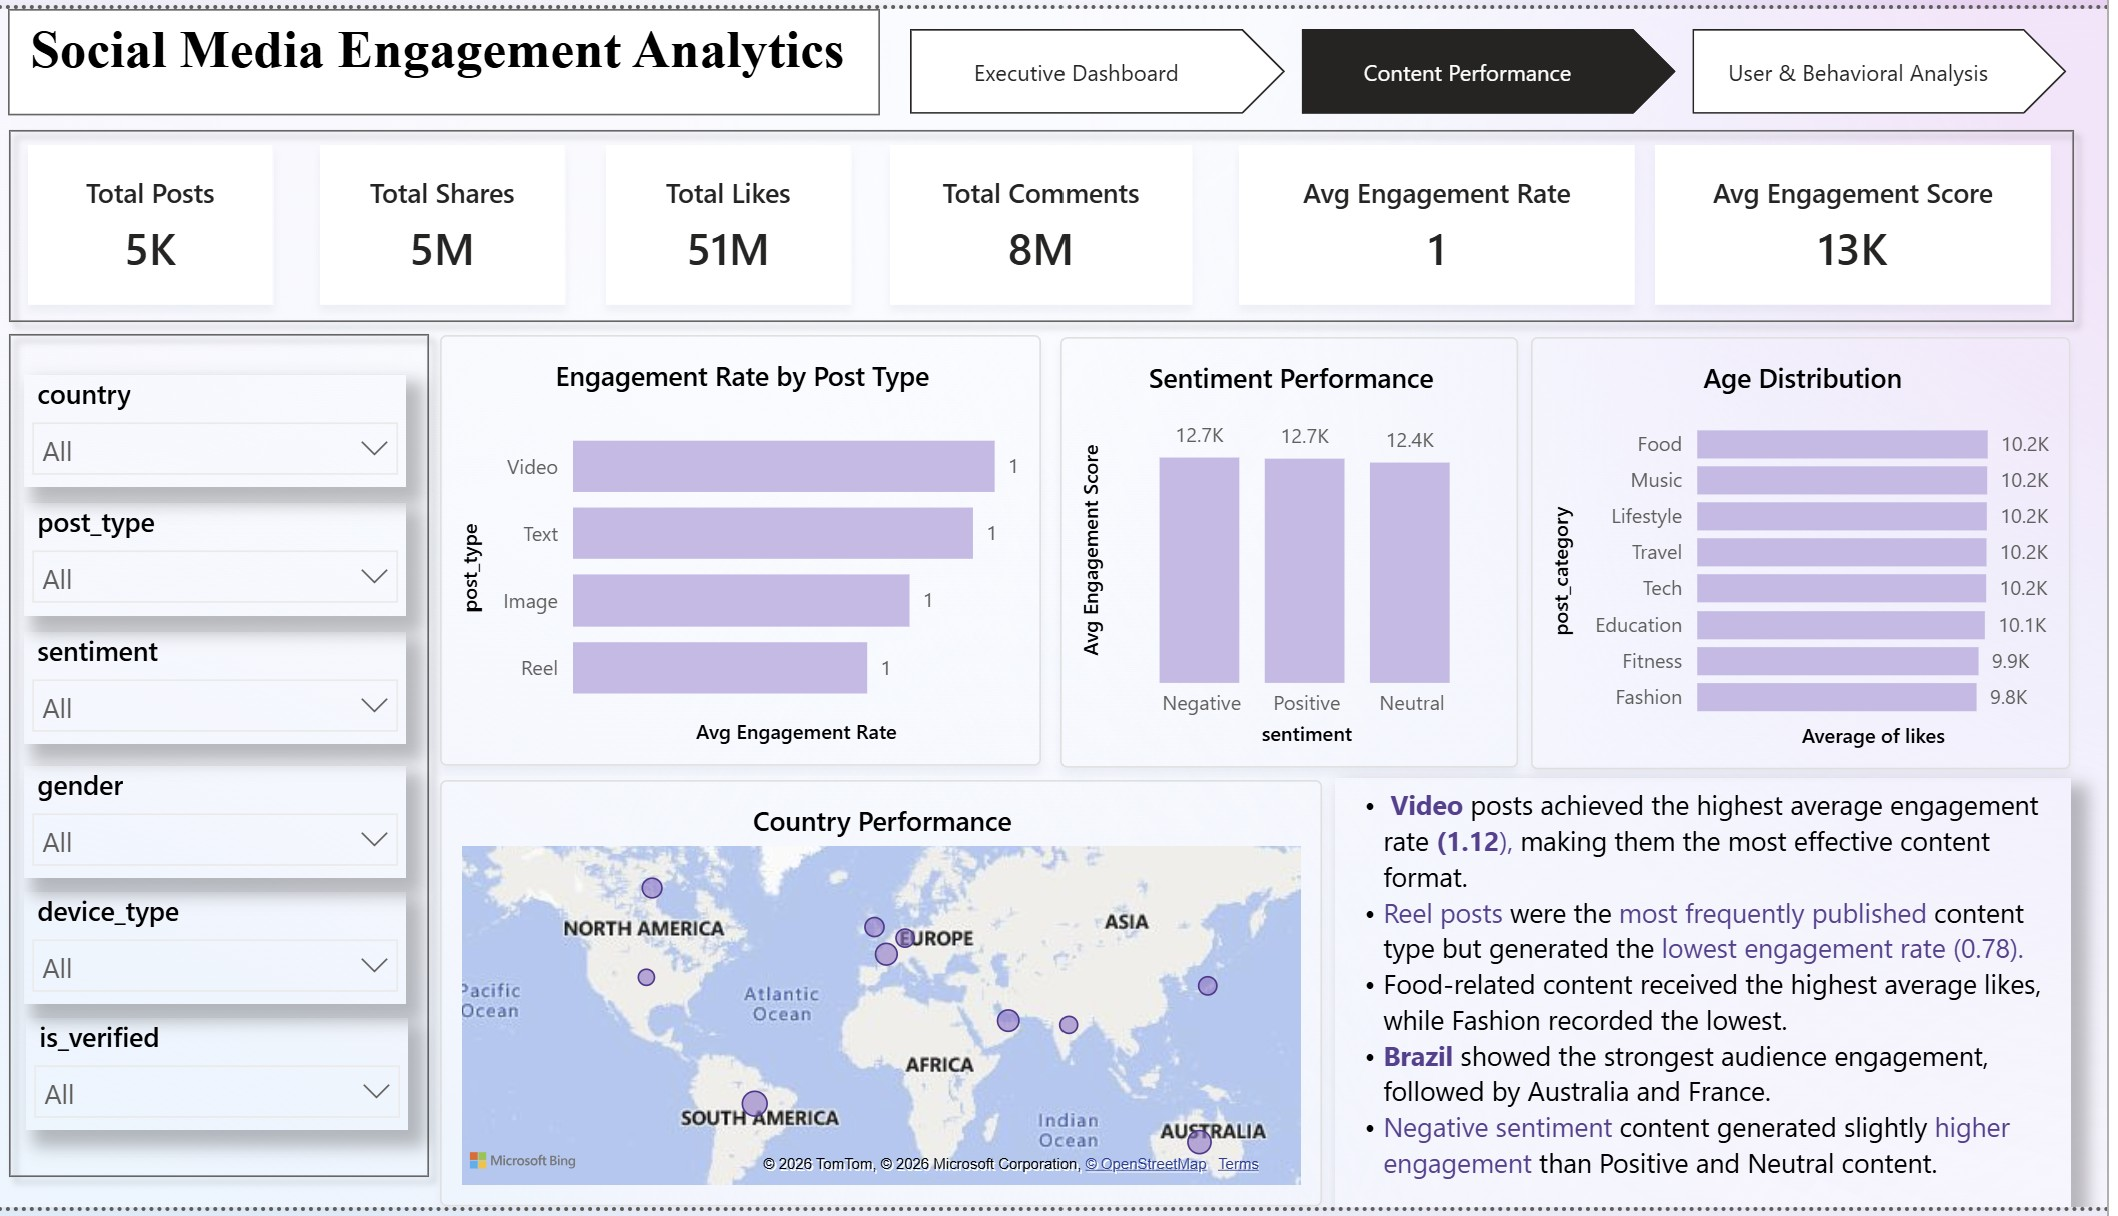

Layout of this report page (visuals, bound fields, positions):
{"tool":"powerbi","page":{"name":"Content Performance","canvas":[1280,720],"ordinal":1},"visuals":[{"type":"textbox","box":[18,0,524.5,63.8],"z":0},{"type":"shape","box":[9.6,63.8,1259.5,133.5],"z":1000},{"type":"cardVisual","fields":{"Data":["DAX_Measures.Total Posts"]},"box":[30.1,81.8,148,96.2],"z":2000},{"type":"cardVisual","fields":{"Data":["DAX_Measures.Avg Engagement Rate"]},"box":[757.9,81.8,238.2,96.2],"z":3000},{"type":"cardVisual","fields":{"Data":["DAX_Measures.Total Shares"]},"box":[205.7,81.8,148,96.2],"z":4000},{"type":"cardVisual","fields":{"Data":["DAX_Measures.Total Likes"]},"box":[377.7,81.8,148,96.2],"z":5000},{"type":"cardVisual","fields":{"Data":["DAX_Measures.Total Comments"]},"box":[548.6,81.8,181.7,96.2],"z":6000},{"type":"cardVisual","fields":{"Data":["DAX_Measures.Avg Engagement Score"]},"box":[1008.1,81.8,238.2,96.2],"z":7000},{"type":"barChart","title":"Age Distribution","fields":{"Category":["dataset.post_category"],"Y":["Avg(dataset.likes)"]},"box":[280.3,462,435.5,258.6],"z":10000},{"type":"shape","box":[9.6,186.5,270.7,524.5],"z":11000},{"type":"clusteredBarChart","title":"Engagement Rate by Post Type","fields":{"Category":["dataset.post_type"],"Y":["DAX_Measures.Avg Engagement Rate"]},"box":[277.9,196.1,437.9,258.6],"z":12001},{"type":"map","title":"Country Performance","fields":{"Category":["dataset.country"],"Size":["Avg(dataset.engagement_rate)"]},"box":[730.2,198.5,529.3,256.2],"z":12002},{"type":"clusteredColumnChart","title":"Sentiment Performance","fields":{"Category":["dataset.sentiment"],"Y":["DAX_Measures.Avg Engagement Score"]},"box":[730,462,529,258],"z":12003},{"type":"pageNavigator","box":[560.6,12,697.7,51.7],"z":12004},{"type":"slicer","fields":{"Values":["dataset.country"]},"box":[27.7,219.5,229.8,67.4],"z":12005},{"type":"slicer","fields":{"Values":["dataset.post_type"]},"box":[27.7,296.5,229.8,67.4],"z":12006},{"type":"slicer","fields":{"Values":["dataset.sentiment"]},"box":[27.7,373.5,229.8,67.4],"z":12007},{"type":"slicer","fields":{"Values":["dataset.gender"]},"box":[27.7,454.1,229.8,67.4],"z":12008},{"type":"slicer","fields":{"Values":["dataset.device_type"]},"box":[27.7,529.9,229.8,67.4],"z":12009},{"type":"slicer","fields":{"Values":["dataset.is_verified"]},"box":[28.9,605.7,229.8,67.4],"z":12010}]}

Visuals, with their boxes in screenshot pixels (x1, y1, x2, y2), scaled from the page's 1280x720 canvas onto the 2118x1216 screenshot:
textbox: (x1=30, y1=0, x2=898, y2=108)
shape: (x1=16, y1=108, x2=2100, y2=333)
cardVisual - DAX_Measures.Total Posts: (x1=50, y1=138, x2=295, y2=301)
cardVisual - DAX_Measures.Avg Engagement Rate: (x1=1254, y1=138, x2=1648, y2=301)
cardVisual - DAX_Measures.Total Shares: (x1=340, y1=138, x2=585, y2=301)
cardVisual - DAX_Measures.Total Likes: (x1=625, y1=138, x2=870, y2=301)
cardVisual - DAX_Measures.Total Comments: (x1=908, y1=138, x2=1208, y2=301)
cardVisual - DAX_Measures.Avg Engagement Score: (x1=1668, y1=138, x2=2062, y2=301)
"Age Distribution" barChart: (x1=464, y1=780, x2=1184, y2=1215)
shape: (x1=16, y1=315, x2=464, y2=1201)
"Engagement Rate by Post Type" clusteredBarChart: (x1=460, y1=331, x2=1184, y2=768)
"Country Performance" map: (x1=1208, y1=335, x2=2084, y2=768)
"Sentiment Performance" clusteredColumnChart: (x1=1208, y1=780, x2=2083, y2=1215)
pageNavigator: (x1=928, y1=20, x2=2082, y2=108)
slicer - dataset.country: (x1=46, y1=371, x2=426, y2=485)
slicer - dataset.post_type: (x1=46, y1=501, x2=426, y2=615)
slicer - dataset.sentiment: (x1=46, y1=631, x2=426, y2=745)
slicer - dataset.gender: (x1=46, y1=767, x2=426, y2=881)
slicer - dataset.device_type: (x1=46, y1=895, x2=426, y2=1009)
slicer - dataset.is_verified: (x1=48, y1=1023, x2=428, y2=1137)
